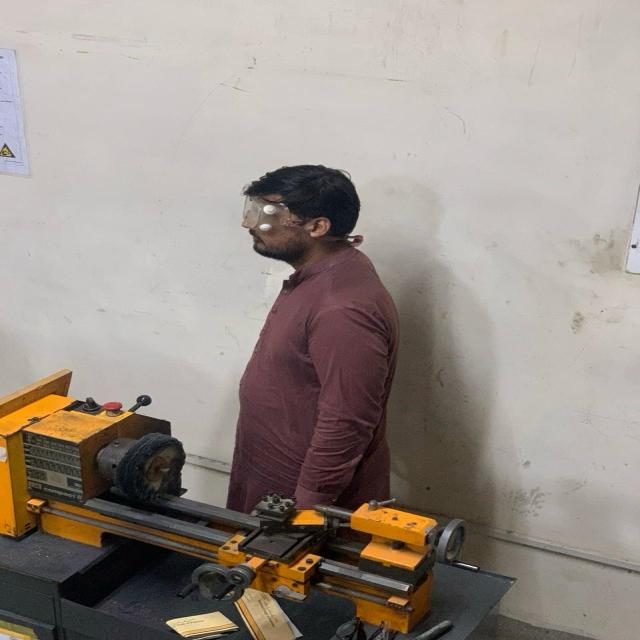googles: (239, 194, 290, 234)
